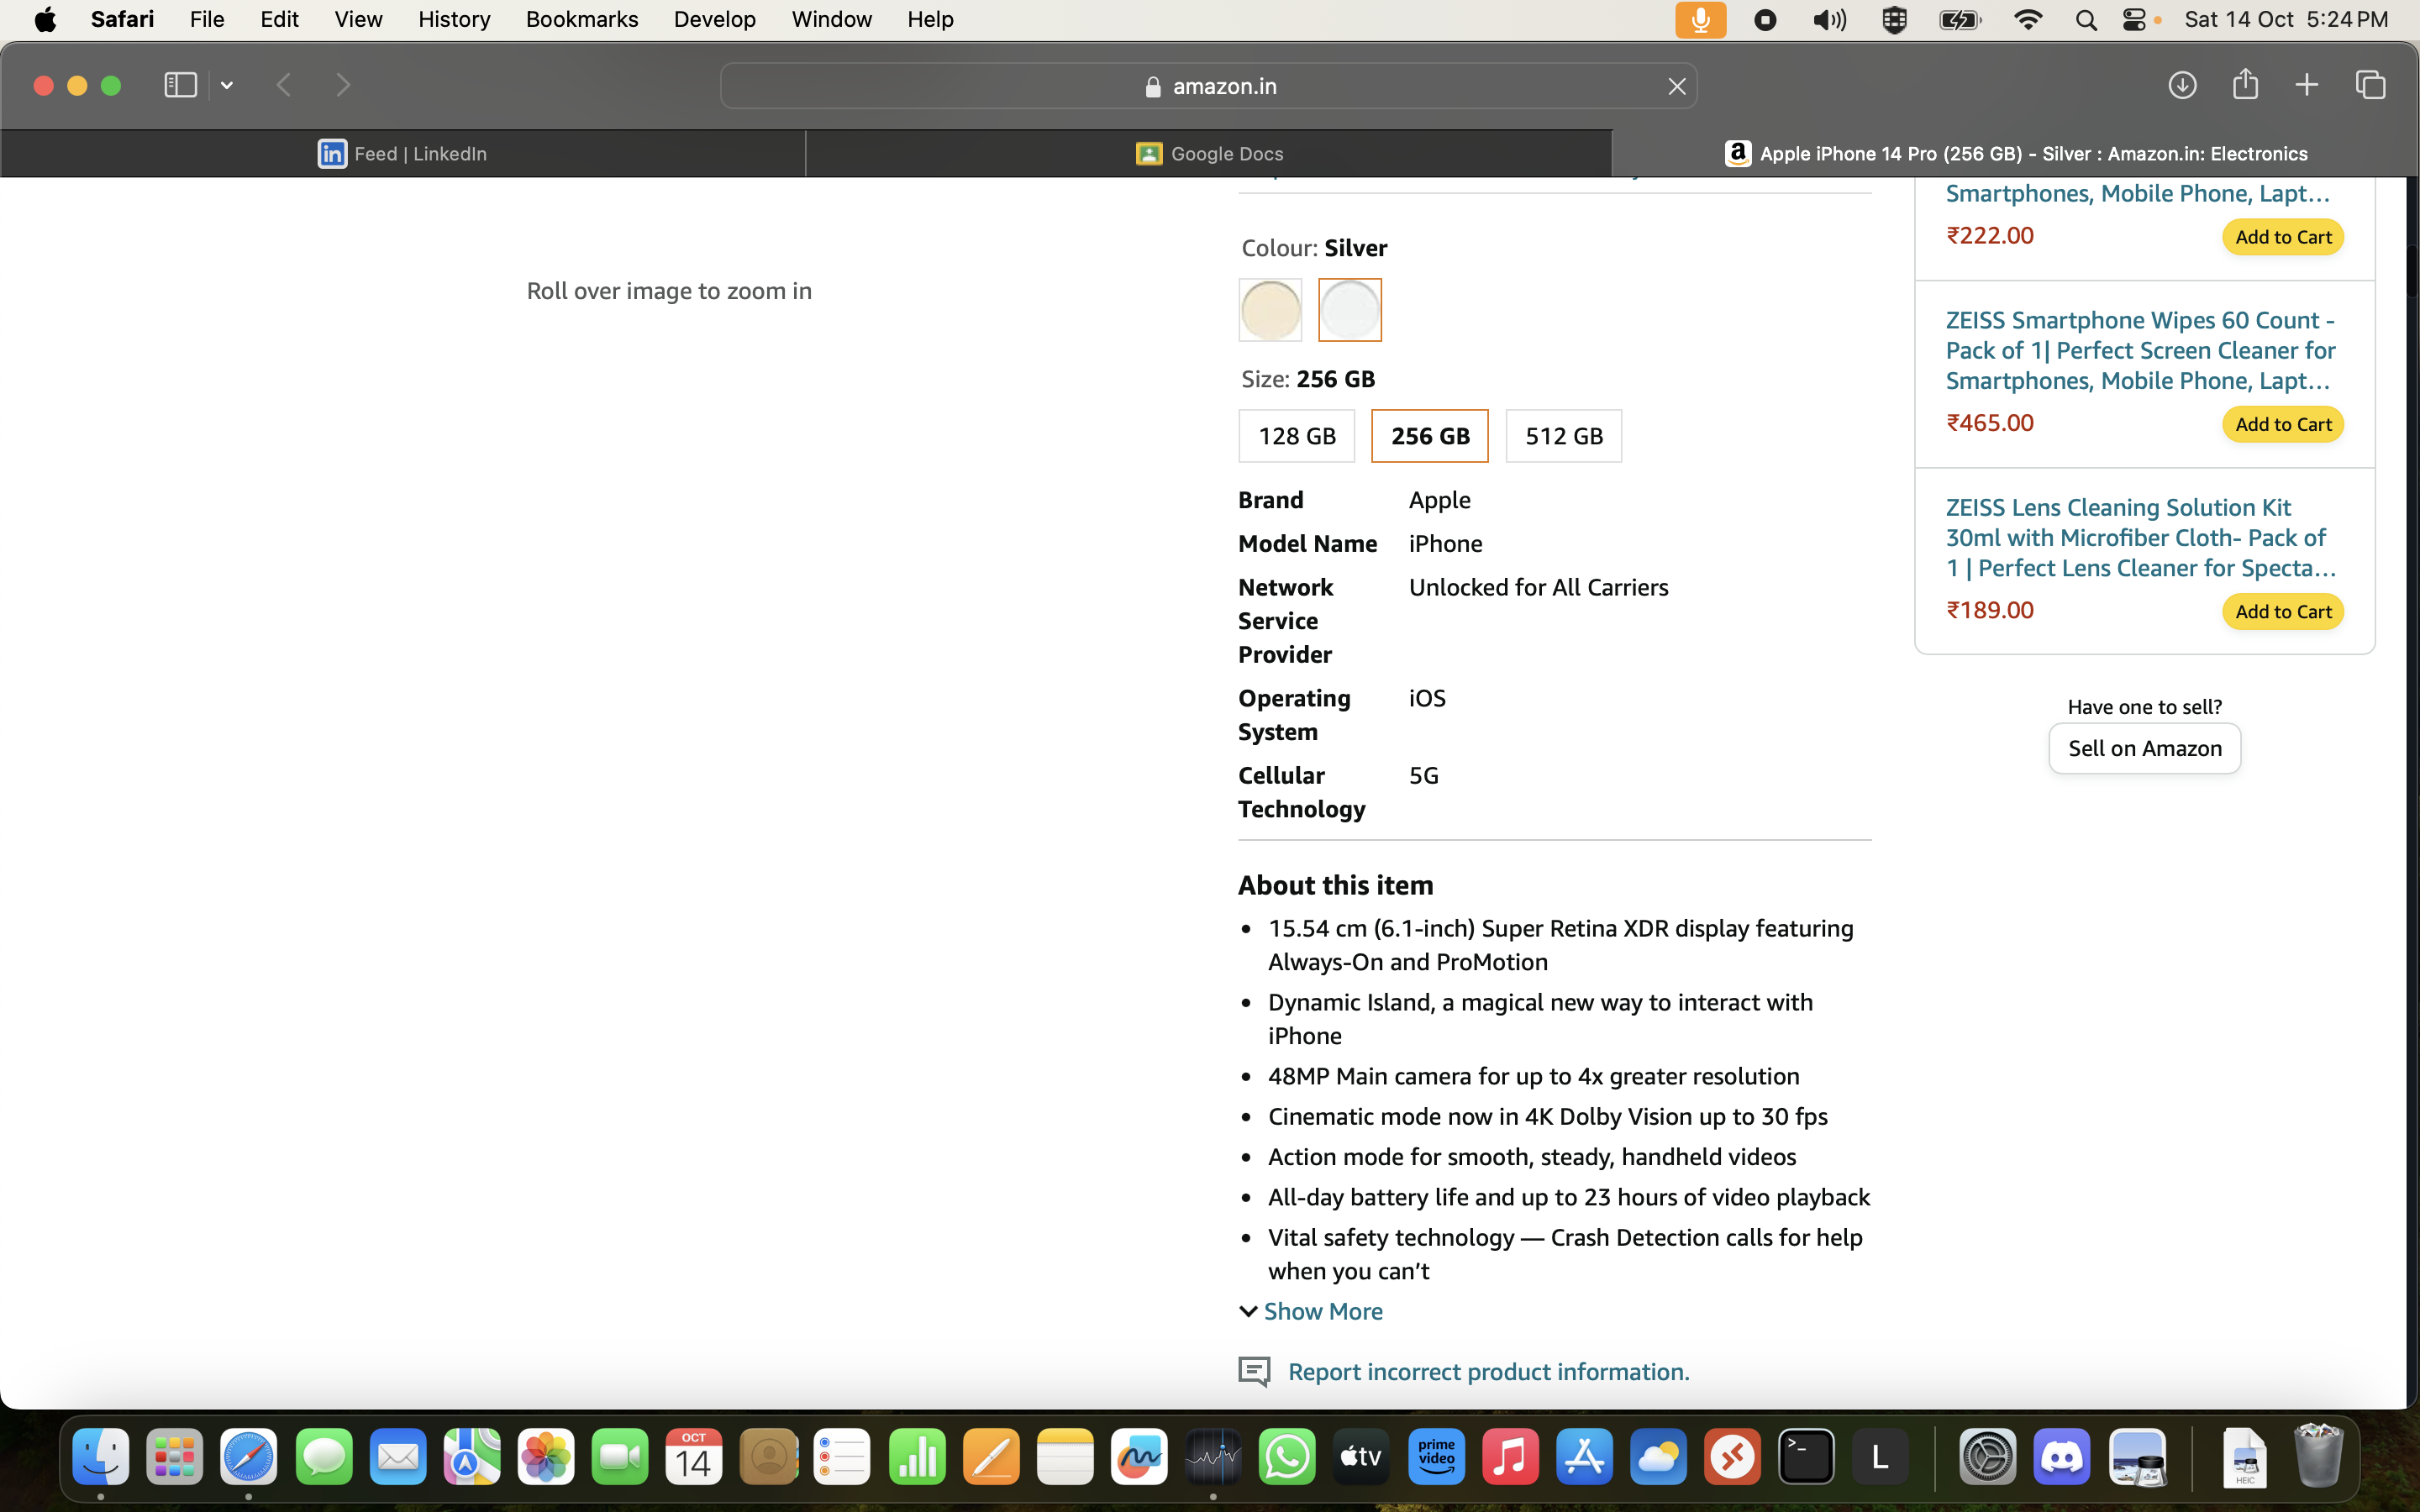Paragraph: (1232, 559, 1674, 672), (1941, 294, 2349, 401), (1249, 913, 1869, 981), (1253, 988, 1824, 1056), (1927, 481, 2345, 573), (1246, 1225, 1852, 1275), (1258, 1172, 1883, 1218), (1258, 1097, 1838, 1137), (514, 258, 847, 322), (1242, 740, 1472, 829), (1207, 453, 1502, 517), (1228, 672, 1458, 740), (1272, 1144, 1807, 1172), (1261, 1070, 1810, 1090), (1225, 521, 1498, 559), (1228, 343, 1385, 401), (2030, 683, 2249, 723), (1232, 864, 1455, 899), (2061, 730, 2227, 772), (1941, 202, 2047, 265), (1239, 404, 1352, 456), (1516, 415, 1612, 467), (1941, 591, 2047, 638), (1375, 404, 1474, 453), (1941, 411, 2058, 449), (1235, 233, 1389, 258)
